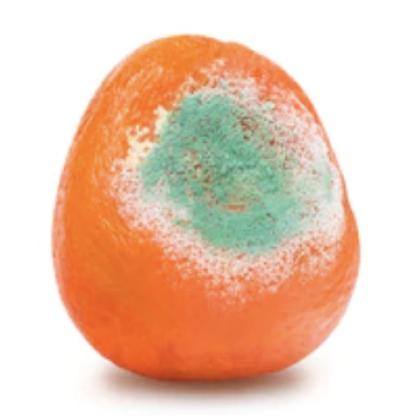rotten: (50, 32, 356, 378)
